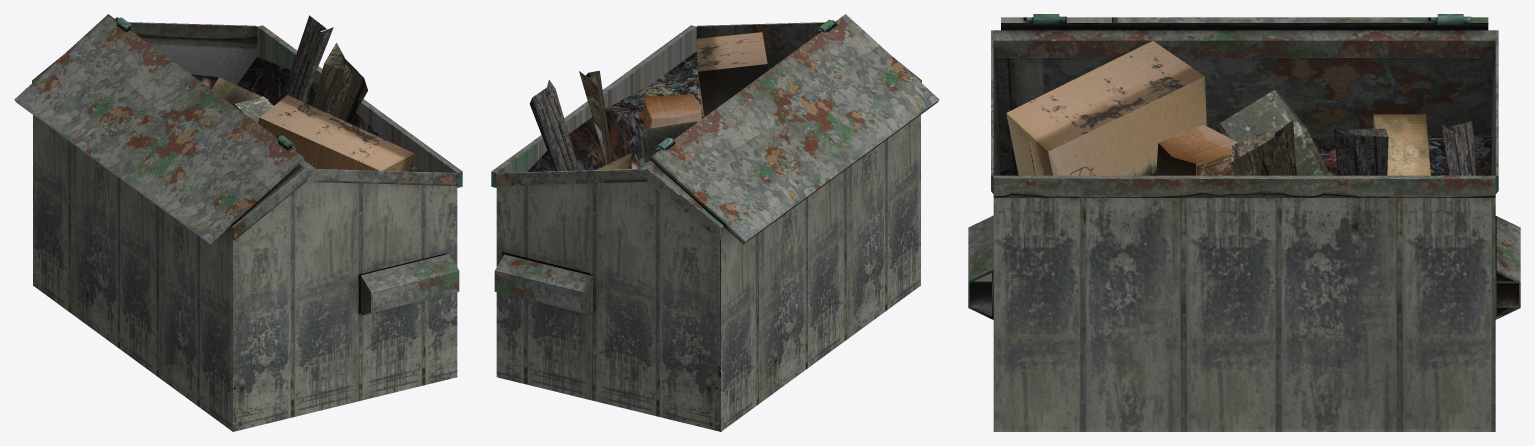
Rendered from dumpster.gltf.
The picture shows the model from 3 angles, left to right: view 1: azimuth 30°, elevation 25°; view 2: azimuth 150°, elevation 25°; view 3: azimuth 270°, elevation 25°; orthographic projection. The views are drawn at different scales.
Visible parts, largest first — view 1: Cube, Cube.001, Cube.002, Cube.003, Plane; view 2: Cube, Cube.001, Plane, Cube.003, Cube.002; view 3: Cube, Cube.001, Cube.002, Cube.003, Plane, Cube.004.
Boxes of the visible parts, x1,y1,x2,y2 form: Cube: (14, 14, 462, 431); Cube.001: (191, 74, 414, 171); Cube.002: (312, 42, 367, 123); Cube.003: (281, 15, 333, 101); Plane: (237, 57, 421, 171); Cube: (491, 14, 939, 431); Cube.001: (597, 32, 767, 169); Plane: (527, 51, 703, 171); Cube.003: (529, 79, 579, 171); Cube.002: (579, 70, 610, 164); Cube: (968, 14, 1520, 431); Cube.001: (1006, 41, 1430, 175); Cube.002: (1230, 120, 1296, 175); Cube.003: (1334, 128, 1388, 175); Plane: (1000, 133, 1491, 175); Cube.004: (1441, 121, 1477, 175).
Size of the model in its own units: 2.3 by 2.21 by 3.4.
5 materials, 5 textured.
